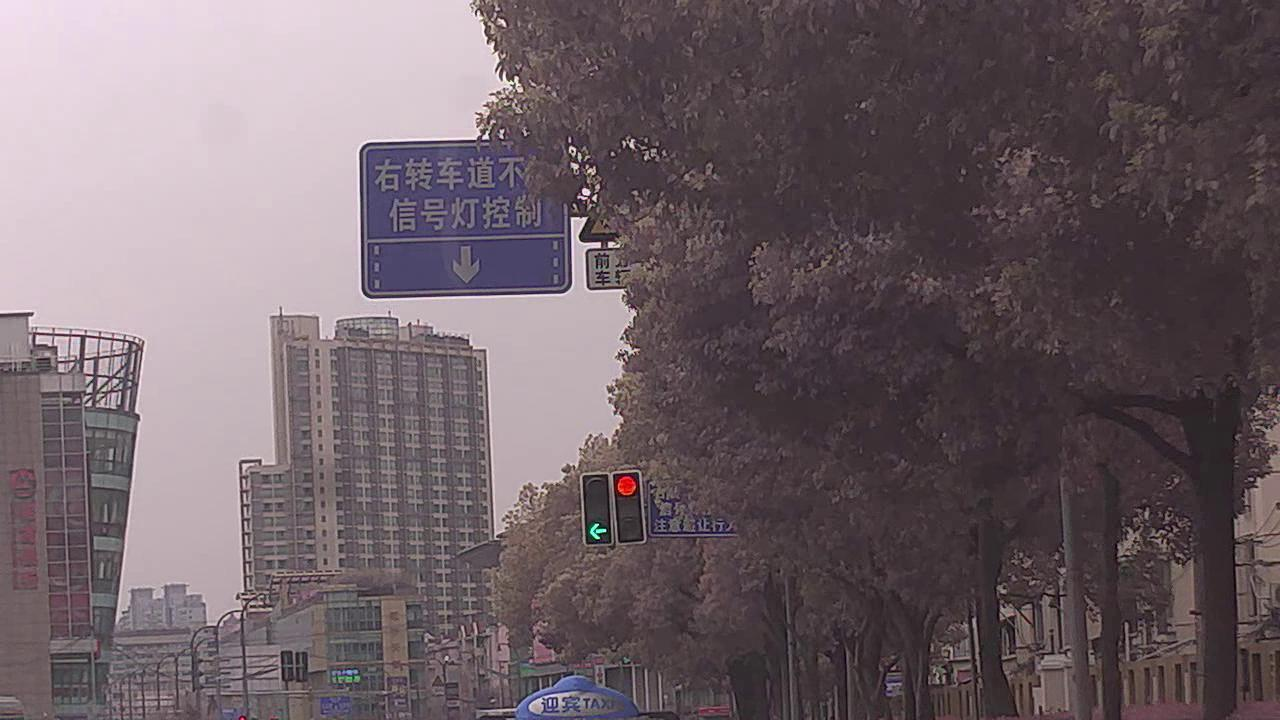traffic_light: (613, 469, 650, 541), (580, 474, 613, 544)
